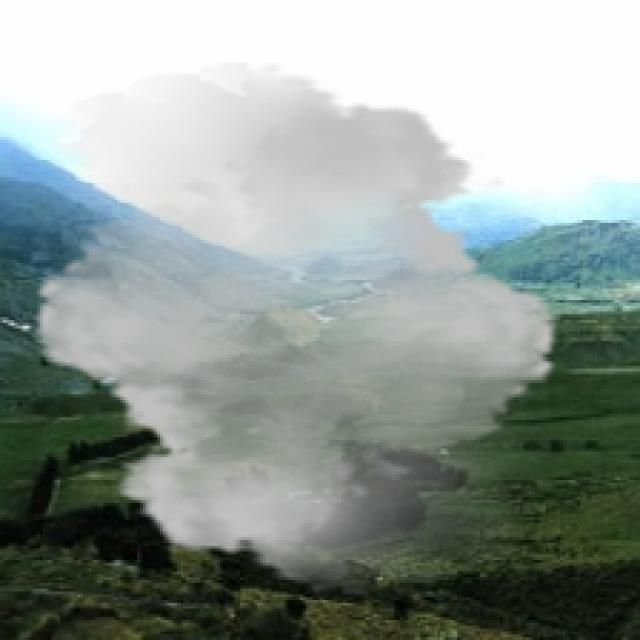smoke: (11, 63, 580, 594)
